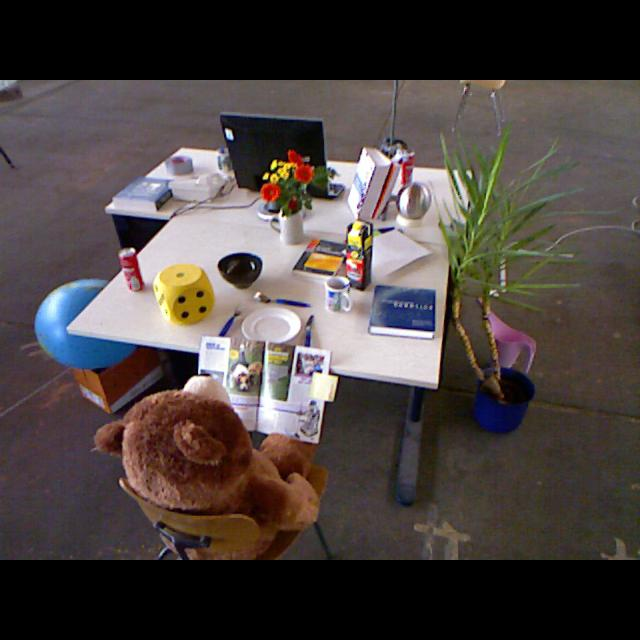Flat-Panel-Monitor: (218, 117, 326, 181)
Telephone-Set: (167, 169, 229, 201)
